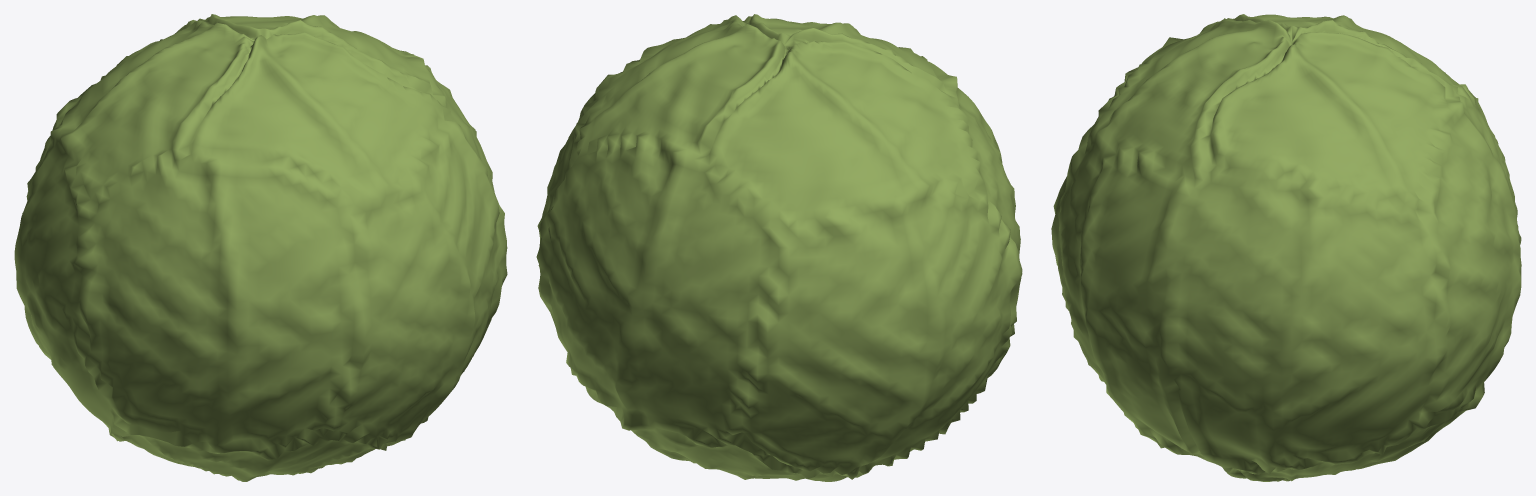
File: A-NEW-20261027-CABBAGE-001_LOD0_R2.glb
3 renders of one model, left to right at view 1: azimuth 30°, elevation 25°; view 2: azimuth 150°, elevation 25°; view 3: azimuth 270°, elevation 25°, orthographic.
Parts seen in each view (by area): view 1: continuous original cabbage leaf head; view 2: continuous original cabbage leaf head; view 3: continuous original cabbage leaf head.
Boxes of the visible parts, box(x1,y1,x2,y2) form: continuous original cabbage leaf head: box(14, 14, 507, 481); continuous original cabbage leaf head: box(536, 14, 1022, 481); continuous original cabbage leaf head: box(1051, 14, 1521, 481).
Size of the model in its own units: 0.2545 by 0.2485 by 0.2424.
